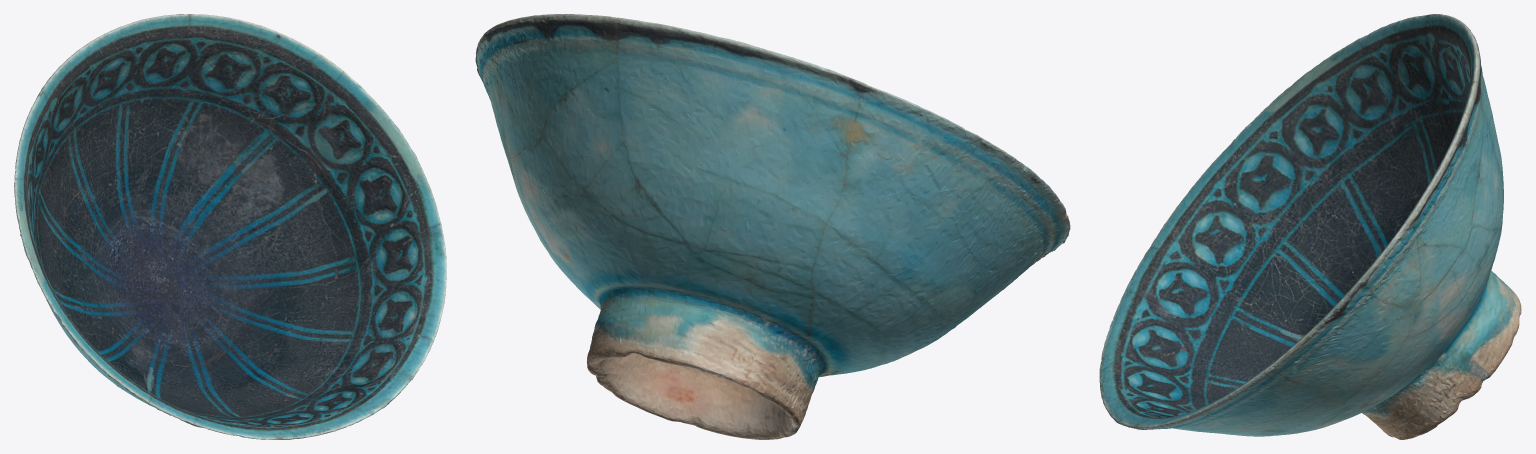
Rendered from Mia_017662_12cBowl_64k.obj.
The picture shows the model from 3 angles, left to right: view 1: azimuth 30°, elevation 25°; view 2: azimuth 150°, elevation 25°; view 3: azimuth 270°, elevation 25°; orthographic projection. The views are drawn at different scales.
Bounding box in the file's own units: 2.61 × 2.07 × 2.09.
1 material, 1 textured.
